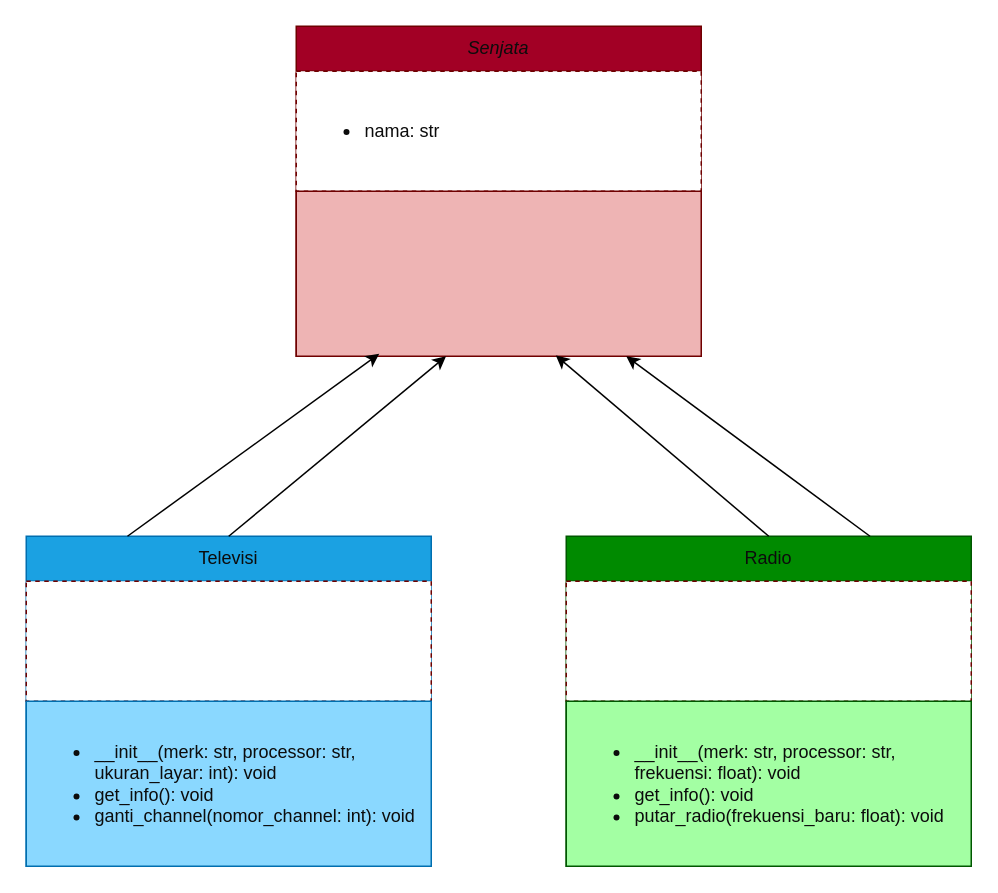
Image size: 998x893. Some labels were removed from this diagram. The centre of each missing label's shape, as x and y in pixels:
__init__(nama: str): void menyalakan(): void mematikan(): void get_info(): void: the point at 498,273
frekuensi: float: the point at 768,640
ukuran_layar: int: the point at 228,640
